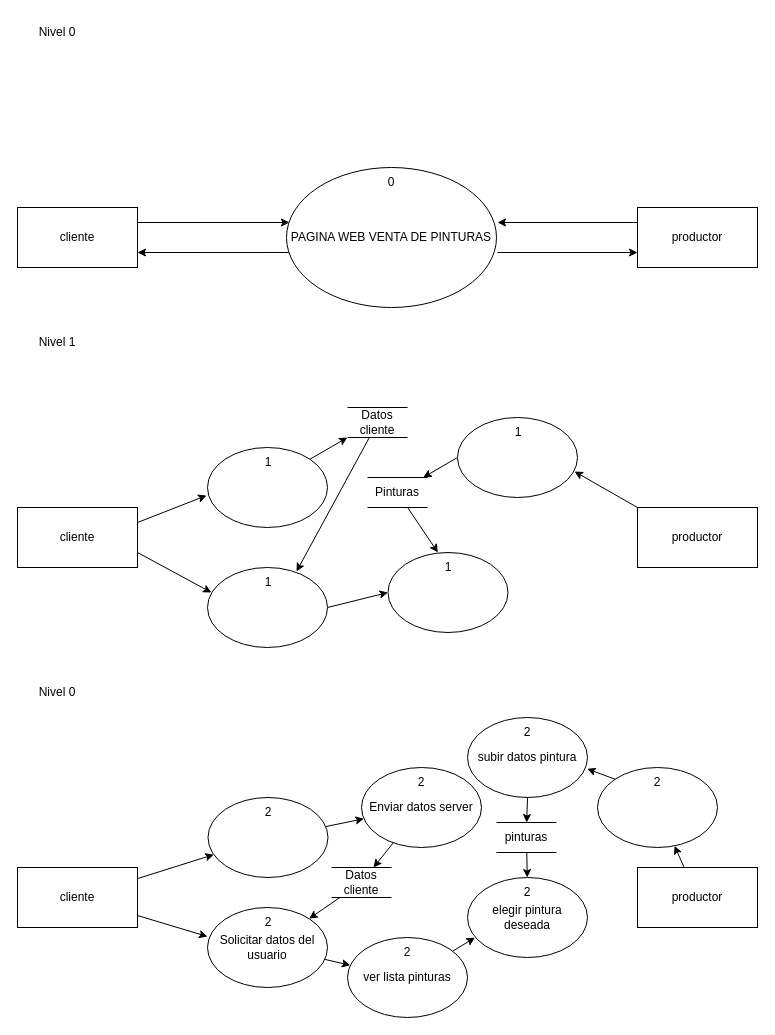
This 775x1035 diagram has some shape labels left out. Each missing label, with the box of its shape:
Compar pintura: (387, 552, 508, 632)
ingresar datos pintura: (596, 766, 718, 848)
Ingresar datos Usuario: (207, 796, 328, 878)
Ingresar pintura: (456, 416, 578, 498)
Logear: (206, 566, 328, 648)
Registrar Usuario: (206, 446, 328, 528)
